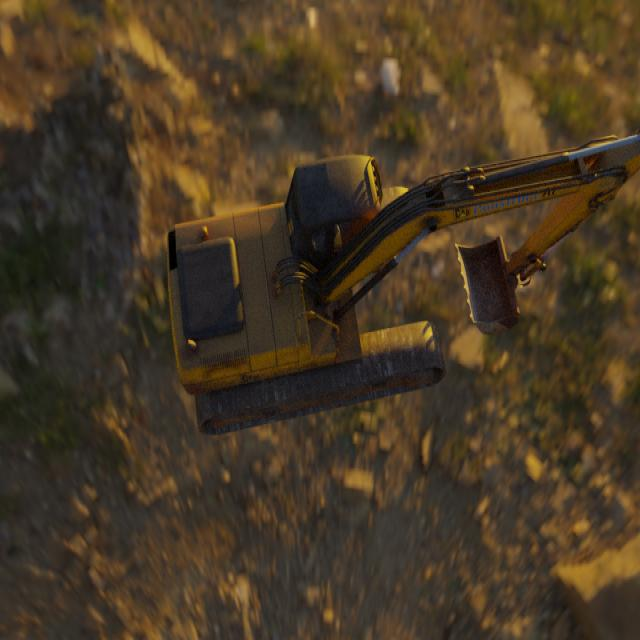excavator: (166, 125, 640, 436)
